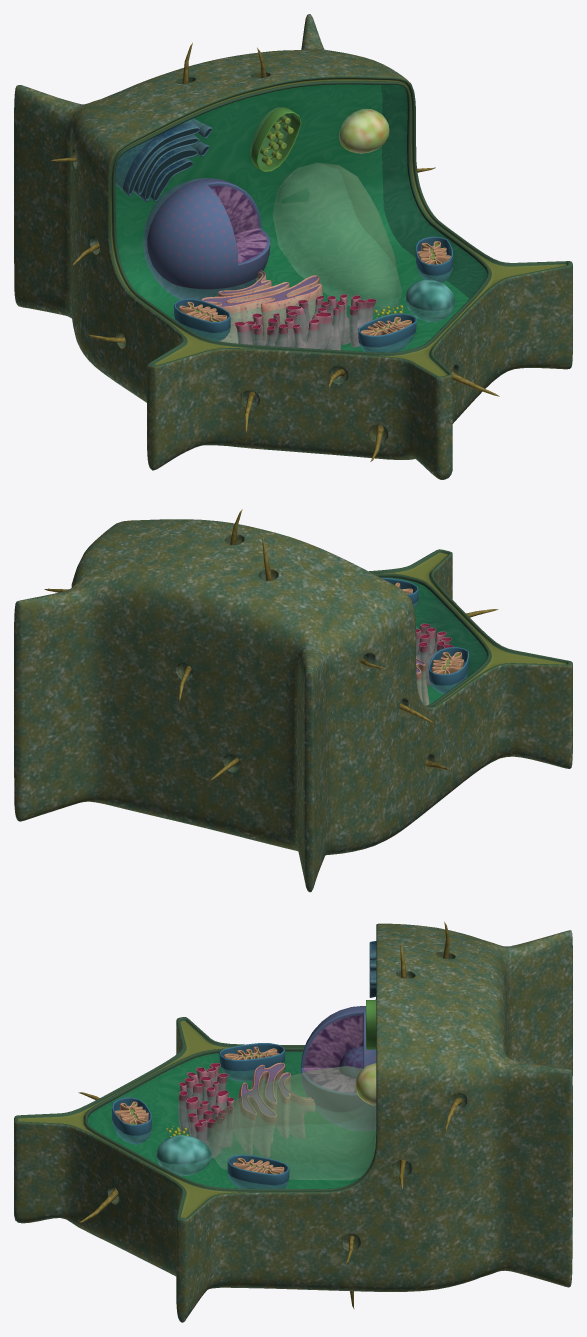
The model's file is plant_cell.glb.
3 views of the same model, one above another, from view 1: azimuth 30°, elevation 25°; view 2: azimuth 150°, elevation 25°; view 3: azimuth 270°, elevation 25° (orthographic).
Parts seen in each view (by area): view 1: cell, cytoplasm, vacuole, nucleus, mitochondria, smooth.ER, golgi.appratus, rough.ER, peroxisome, chloroplast.out, lysosome, plasmodesma (+1 smaller); view 2: cell, cytoplasm, mitochondria, plasmodesma, smooth.ER; view 3: cell, cytoplasm, vacuole, nucleus, mitochondria, rough.ER, smooth.ER, lysosome, plasmodesma, peroxisome, chloroplast.out.
Boxes of the visible parts, x1=… form: cell: x1=14, y1=14, x2=572, y2=479; cytoplasm: x1=115, y1=84, x2=487, y2=352; vacuole: x1=273, y1=163, x2=401, y2=313; nucleus: x1=143, y1=178, x2=270, y2=300; mitochondria: x1=174, y1=236, x2=452, y2=352; smooth.ER: x1=234, y1=294, x2=376, y2=350; golgi.appratus: x1=115, y1=118, x2=212, y2=201; rough.ER: x1=201, y1=270, x2=323, y2=343; peroxisome: x1=339, y1=108, x2=389, y2=153; chloroplast.out: x1=250, y1=107, x2=301, y2=172; lysosome: x1=405, y1=279, x2=454, y2=322; plasmodesma: x1=50, y1=42, x2=499, y2=461; cell: x1=14, y1=519, x2=572, y2=892; cytoplasm: x1=384, y1=577, x2=487, y2=705; mitochondria: x1=381, y1=577, x2=468, y2=693; plasmodesma: x1=44, y1=509, x2=498, y2=781; smooth.ER: x1=416, y1=623, x2=453, y2=686; cell: x1=14, y1=923, x2=572, y2=1322; cytoplasm: x1=88, y1=1051, x2=376, y2=1188; vacuole: x1=206, y1=1066, x2=376, y2=1179; nucleus: x1=300, y1=1006, x2=376, y2=1130; mitochondria: x1=112, y1=1043, x2=289, y2=1188; rough.ER: x1=234, y1=1062, x2=314, y2=1157; smooth.ER: x1=178, y1=1063, x2=234, y2=1157; lysosome: x1=156, y1=1135, x2=212, y2=1176; plasmodesma: x1=77, y1=921, x2=462, y2=1309; peroxisome: x1=355, y1=1063, x2=376, y2=1105; chloroplast.out: x1=366, y1=1000, x2=376, y2=1049.
Bounding box in the file's own units: 164 × 122 × 190.
Materials: 1 (1 with a texture image).
